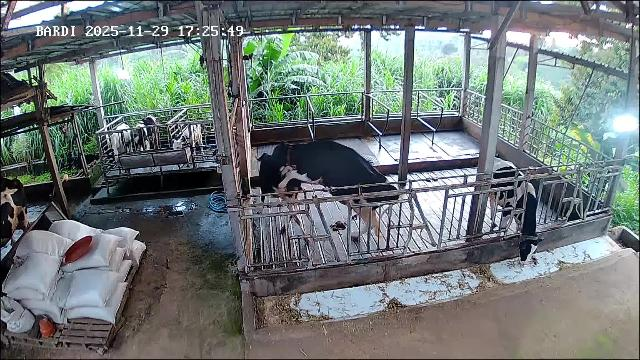mounting: (268, 138, 398, 245)
